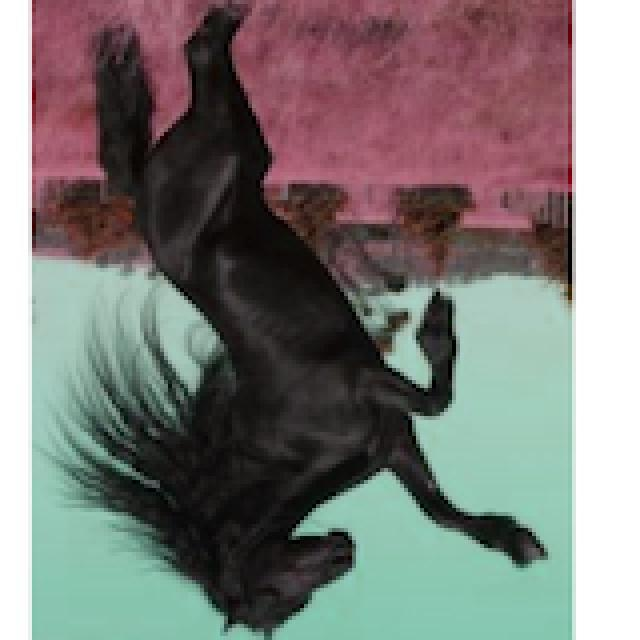Horse: (44, 4, 552, 640)
